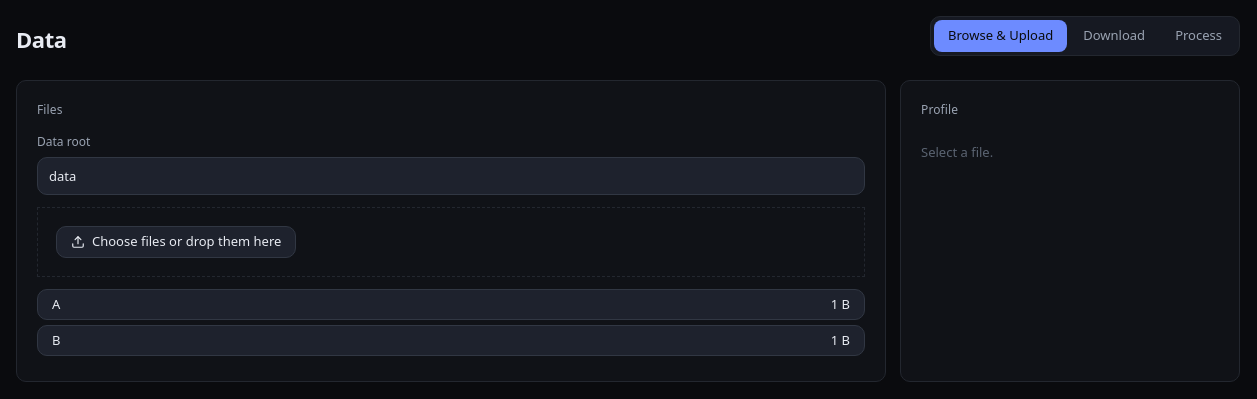
Test: configuration and data failure paths › keeps the selected file profile when an older request finishes later
Click the button named "Profile A" at (56, 304), box [37,289,865,320]
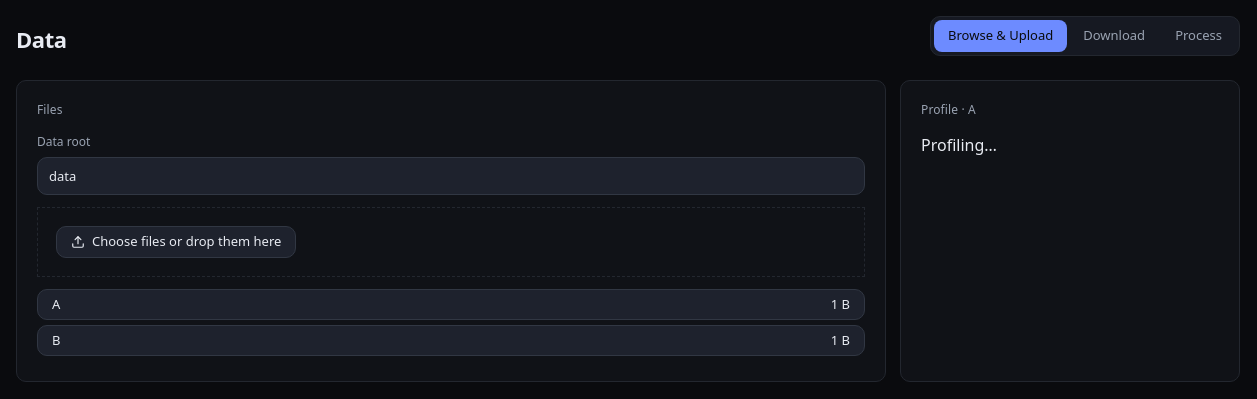
Click the button named "Profile B" at (56, 340), box [37,325,865,356]
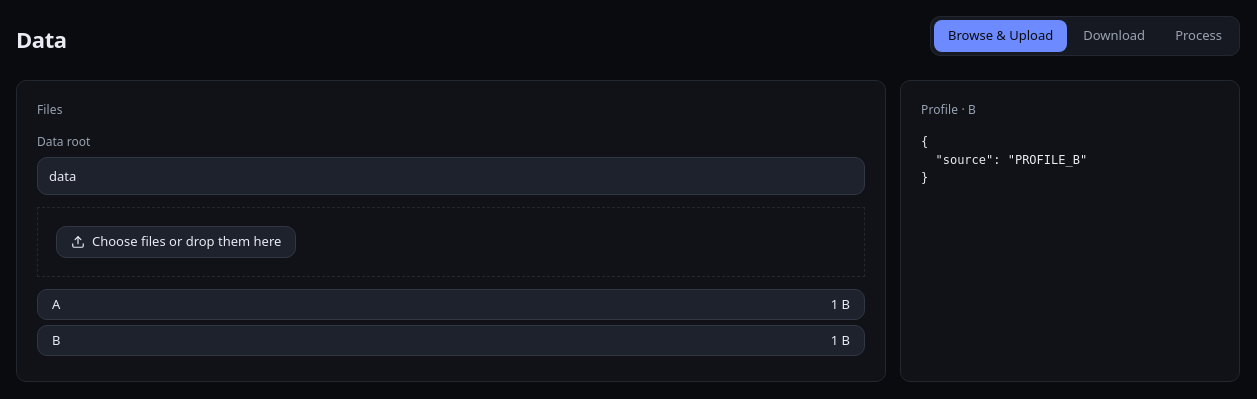
Expected: the text "{ \"source\": \"PROFILE_B\" }" is shown, [921,134,1087,184]
